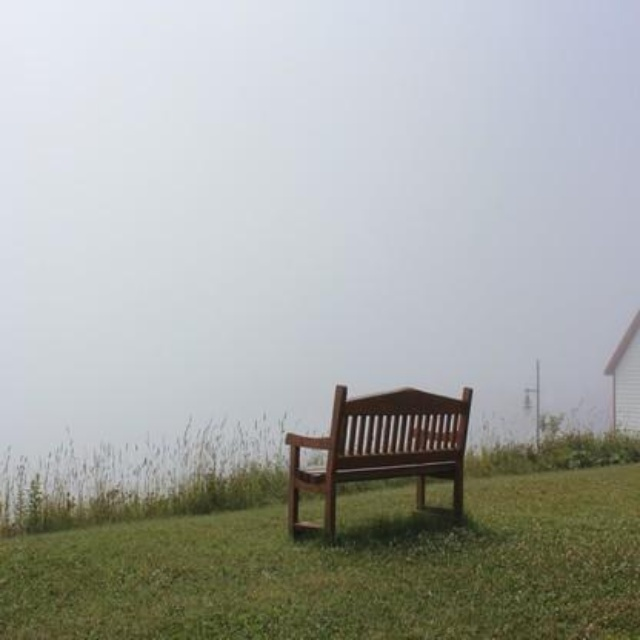obstacle: (269, 365, 492, 558)
